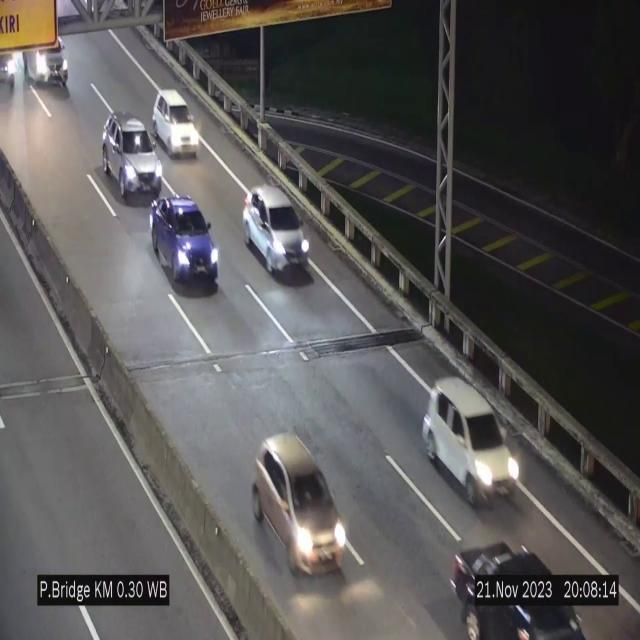Car: (247, 426, 346, 581), (441, 535, 587, 640), (422, 378, 524, 503), (150, 194, 218, 288), (243, 186, 310, 274), (102, 111, 162, 202), (22, 32, 74, 92), (153, 90, 199, 157)
